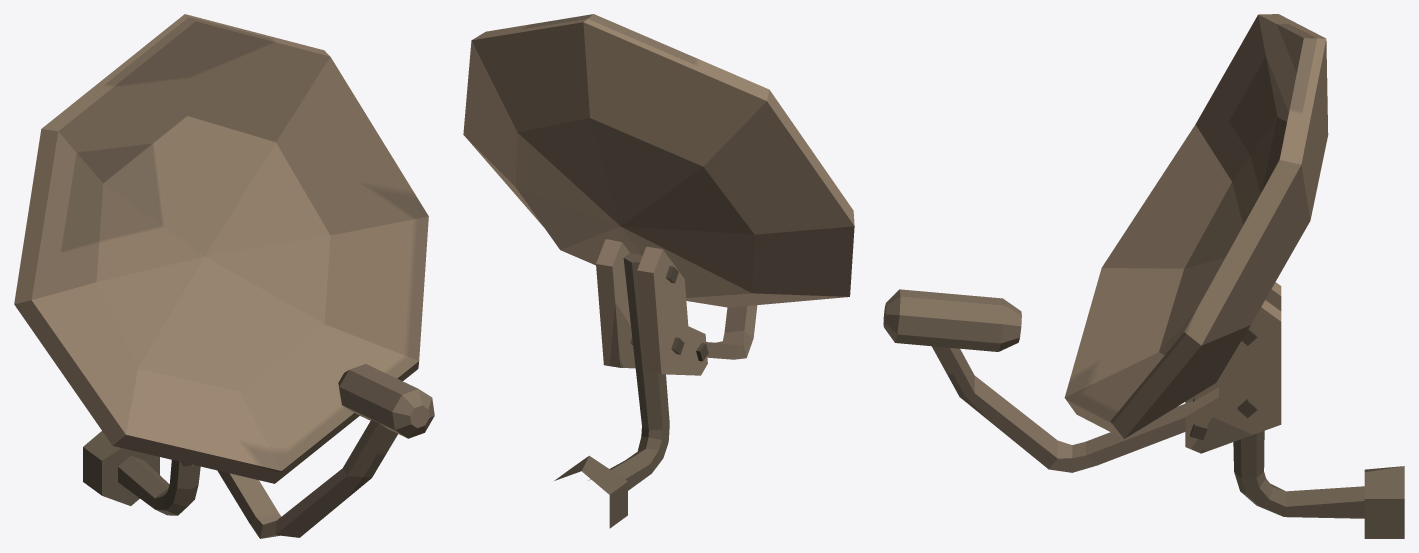
File: SM_Prop_Satellite_Dish_03.glb
3 views of the same model, side by side, from view 1: azimuth 30°, elevation 25°; view 2: azimuth 150°, elevation 25°; view 3: azimuth 270°, elevation 25° (orthographic). The views are drawn at different scales.
Visible parts, largest first — view 1: SM_Prop_Satellite_Dish_03; view 2: SM_Prop_Satellite_Dish_03; view 3: SM_Prop_Satellite_Dish_03.
Boxes of the visible parts, box(x1,y1,x2,y2) form: SM_Prop_Satellite_Dish_03: box(14, 14, 434, 538); SM_Prop_Satellite_Dish_03: box(463, 14, 854, 528); SM_Prop_Satellite_Dish_03: box(883, 14, 1404, 538).
Bounding box in the file's own units: 1.23 × 1.43 × 1.3.
1 material, 1 textured.
